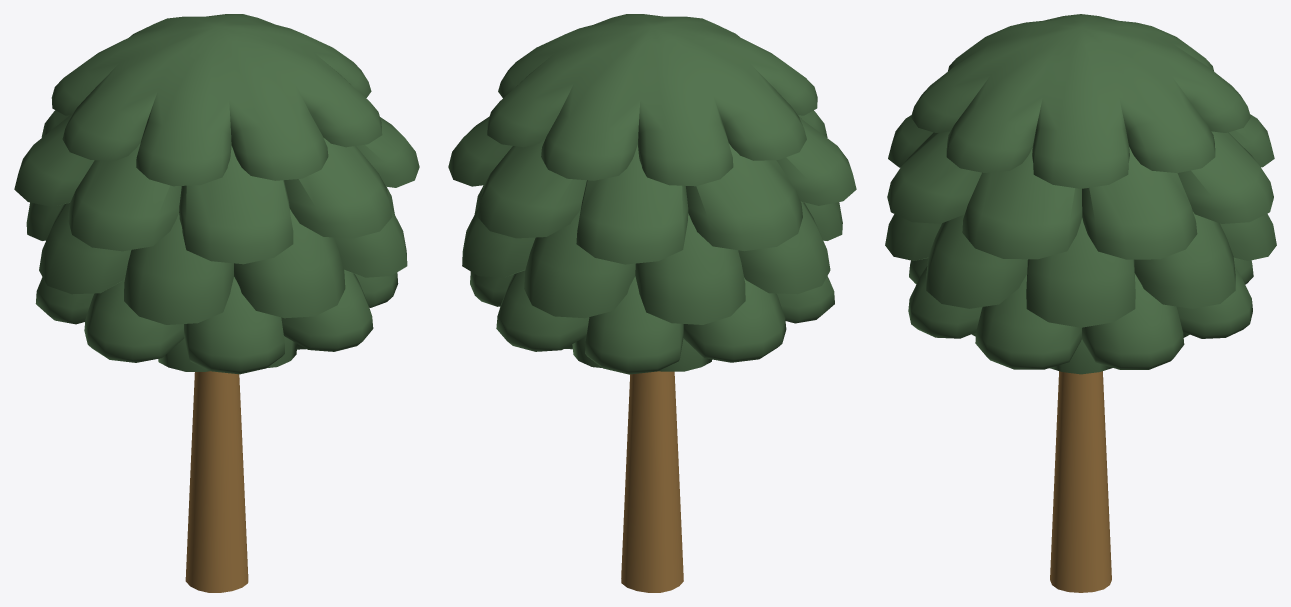
File: Tree.glb
The picture shows the model from 3 angles, left to right: view 1: azimuth 30°, elevation 25°; view 2: azimuth 150°, elevation 25°; view 3: azimuth 270°, elevation 25°; orthographic projection.
Visible parts, largest first — view 1: Tree; view 2: Tree; view 3: Tree.
Boxes of the visible parts, x1,y1,x2,y2 form: Tree: (14,14,419,592); Tree: (448,14,856,592); Tree: (885,14,1276,592).
Bounding box in the file's own units: 5.53 × 8.63 × 5.55.
